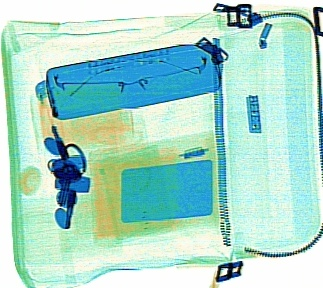lighter: (34, 77, 65, 148)
